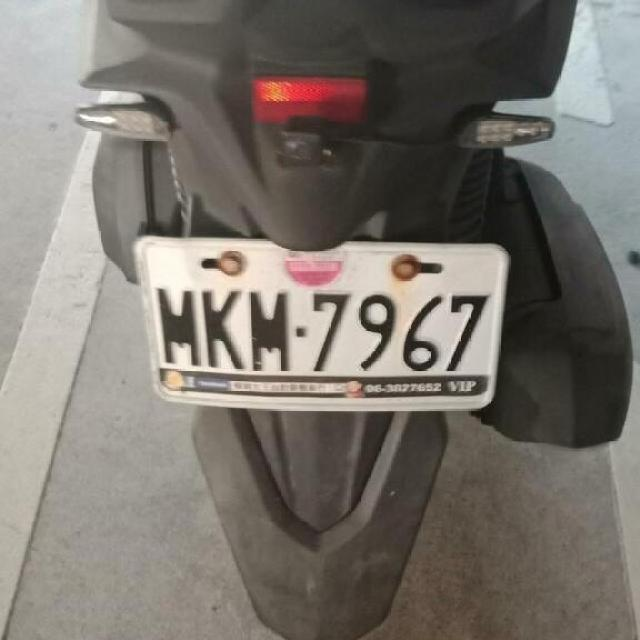W: (134, 222, 516, 420)
